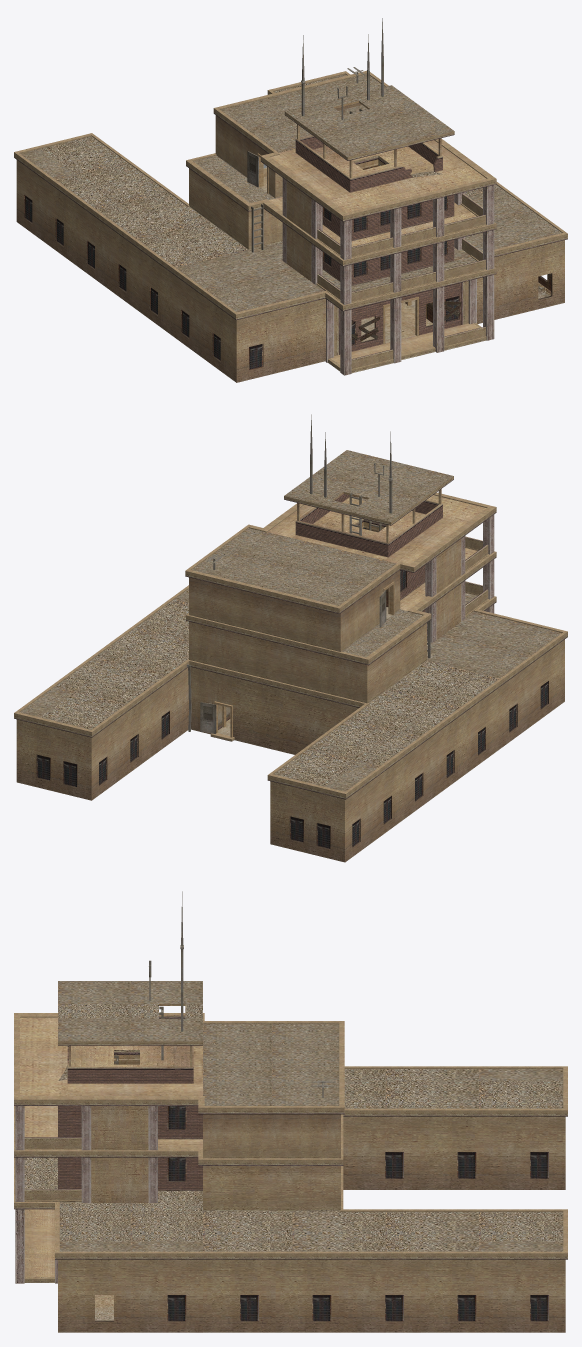
The model's file is unbld01.glb.
The picture shows the model from 3 angles, top to bottom: view 1: azimuth 30°, elevation 25°; view 2: azimuth 150°, elevation 25°; view 3: azimuth 270°, elevation 25°; orthographic projection. The views are drawn at different scales.
Parts seen in each view (by area): view 1: _unbld01; view 2: _unbld01; view 3: _unbld01.
Part boxes in pixels (x1,y1,x2,y2): _unbld01: (14,18,567,382); _unbld01: (14,414,567,862); _unbld01: (14,891,567,1332).
Size of the model in its own units: 28.85 by 23.4 by 36.12.
4 materials, 4 textured.
